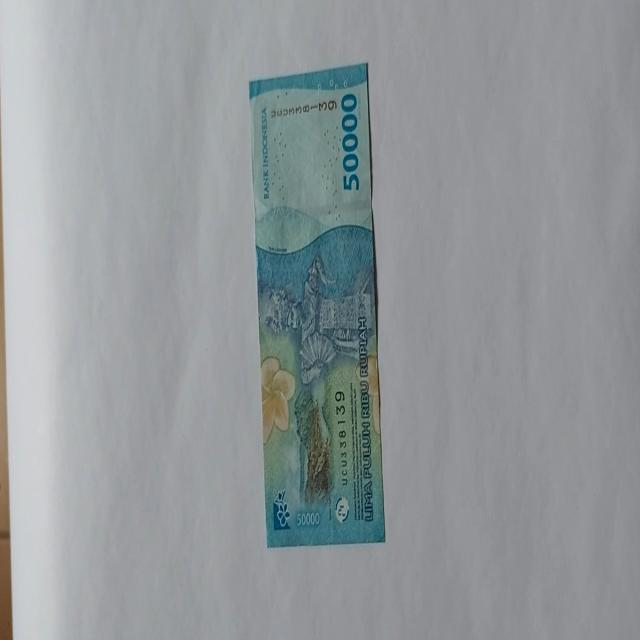lima puluh ribu rupiah: (248, 60, 386, 548)
